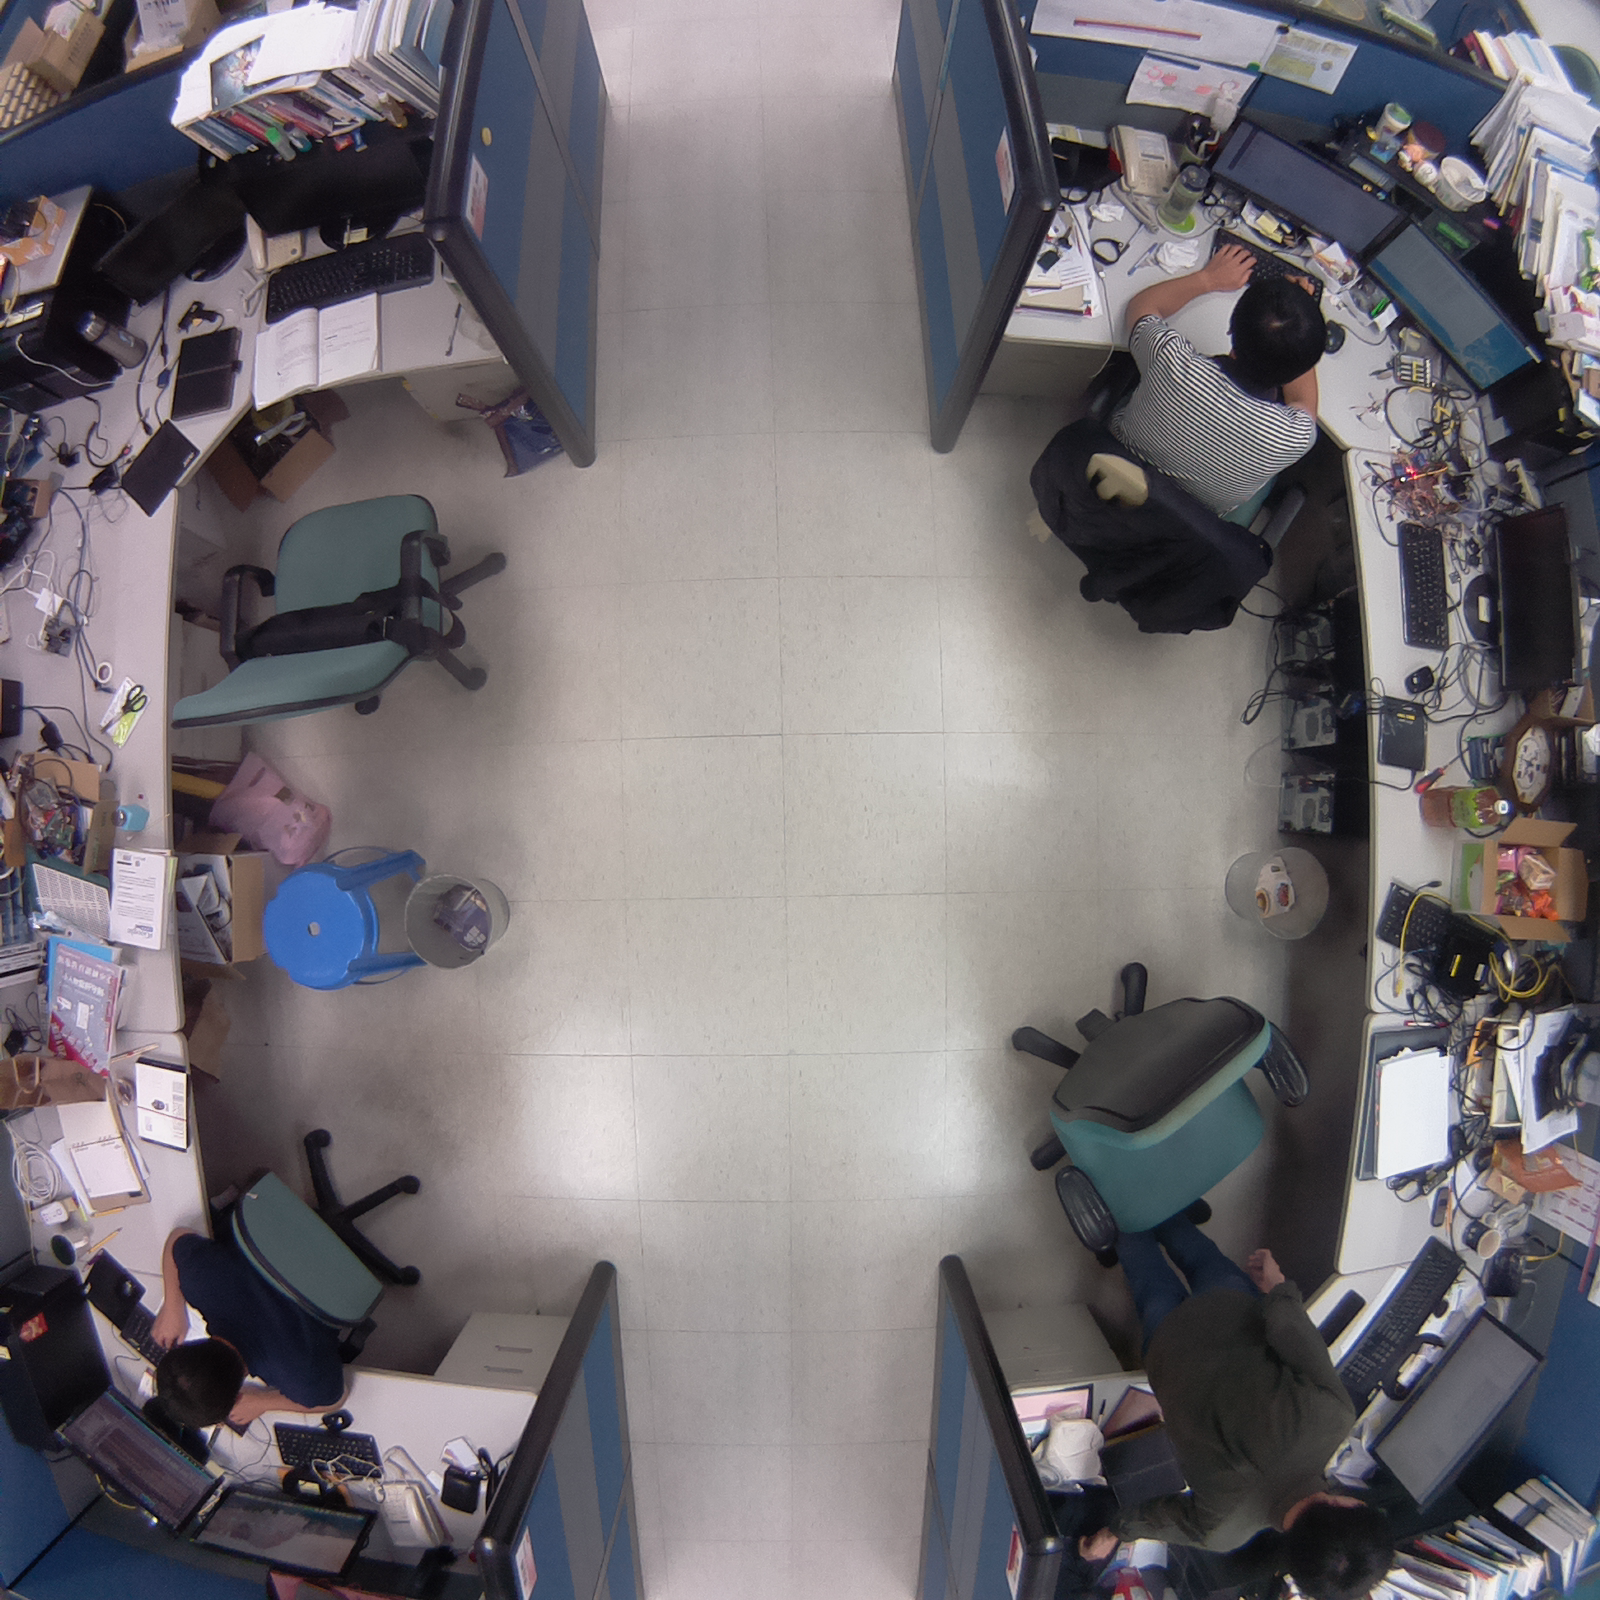chair: (150, 460, 529, 752), (981, 945, 1324, 1260)
head: (1283, 1492, 1398, 1600), (1224, 276, 1333, 384), (147, 1338, 251, 1434)
sitting: (1017, 237, 1336, 665), (144, 1111, 453, 1451)
standing: (1093, 1194, 1400, 1600)
